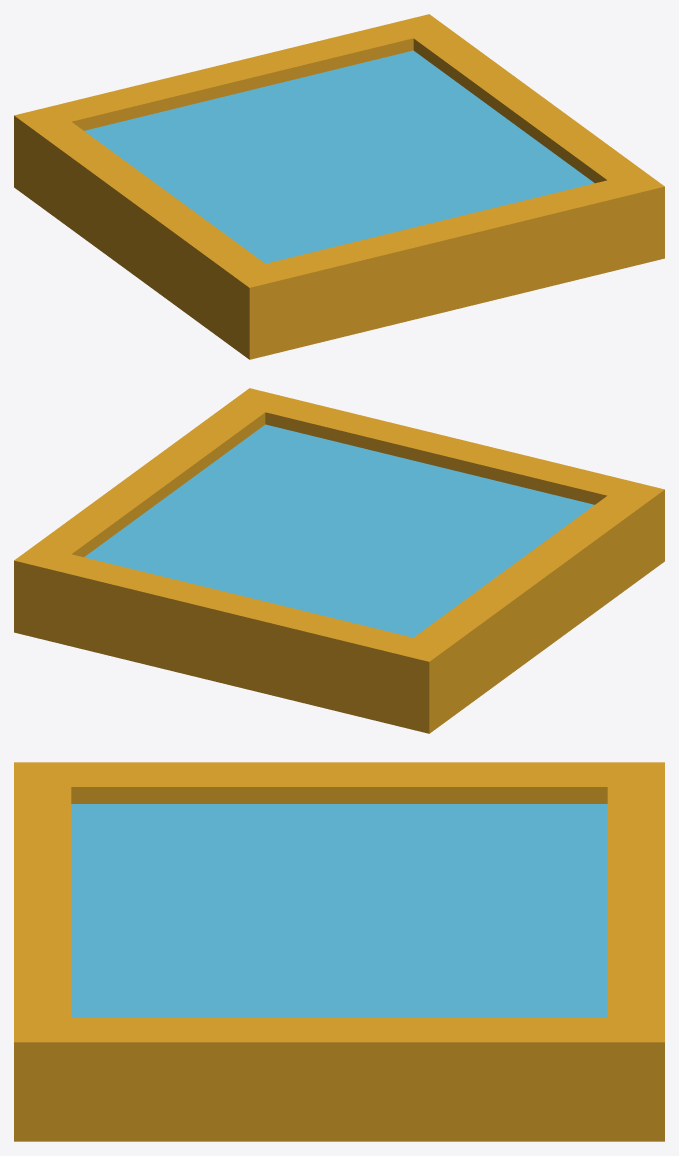
The model's file is bath.glb.
3 views of the same model, one above another, from view 1: azimuth 30°, elevation 25°; view 2: azimuth 150°, elevation 25°; view 3: azimuth 270°, elevation 25° (orthographic). The views are drawn at different scales.
Visible parts, largest first — view 1: Cube; view 2: Cube; view 3: Cube.
Part boxes in pixels (box(x1,y1,x2,y2)): Cube: box(14, 14, 664, 359); Cube: box(14, 388, 664, 733); Cube: box(14, 762, 664, 1141).
Bounding box in the file's own units: 9.95 × 1.65 × 9.78.
